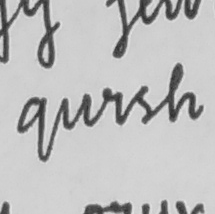h: (164, 61, 205, 124)
q: (14, 93, 50, 163)
r: (99, 85, 126, 127)
s: (131, 83, 155, 128)
u: (58, 91, 94, 132)
